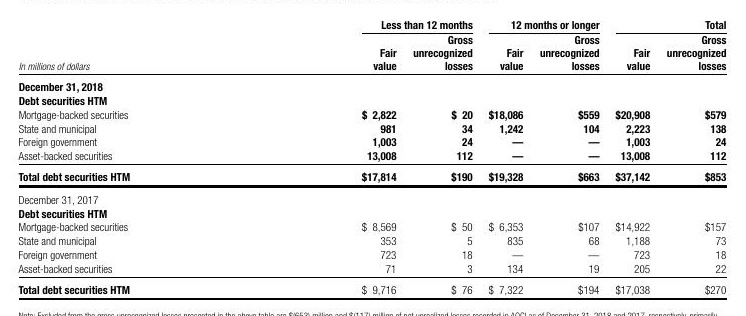table: (0, 0, 746, 316)
